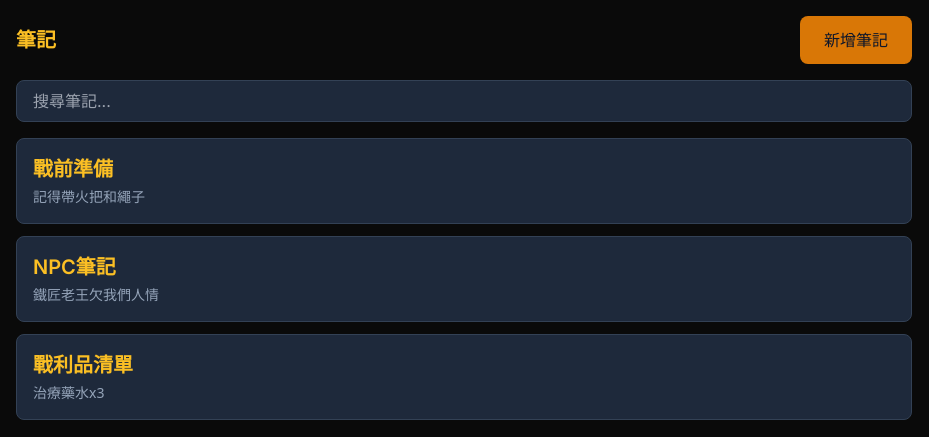
NotesPage - 搜尋列 › 輸入內容關鍵字時，也能篩出符合的筆記
The width and height of the screenshot is (929, 437).
Type "藥水" into the field with placeholder "搜尋筆記..." at [464, 101], box [16, 80, 912, 122]
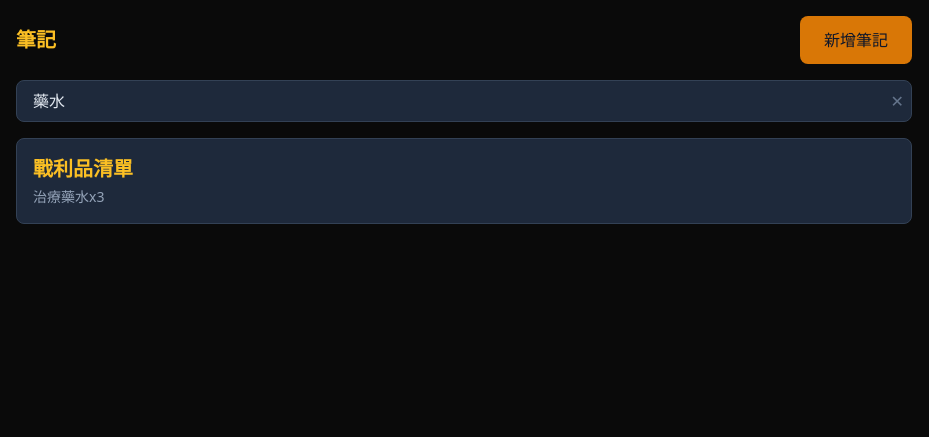
Expected: the text "戰利品清單" is shown, [33, 157, 133, 181]
Expected: the button "戰前準備" is gone
Expected: the button "NPC筆記" is gone
